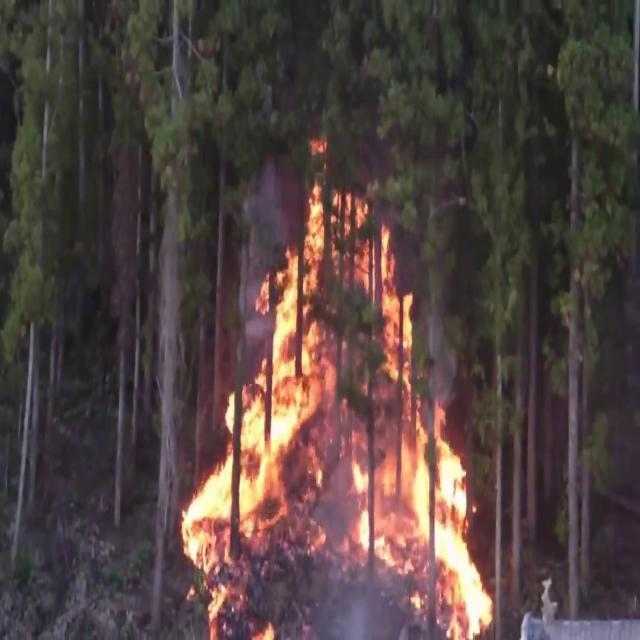Fire: (182, 156, 493, 632)
